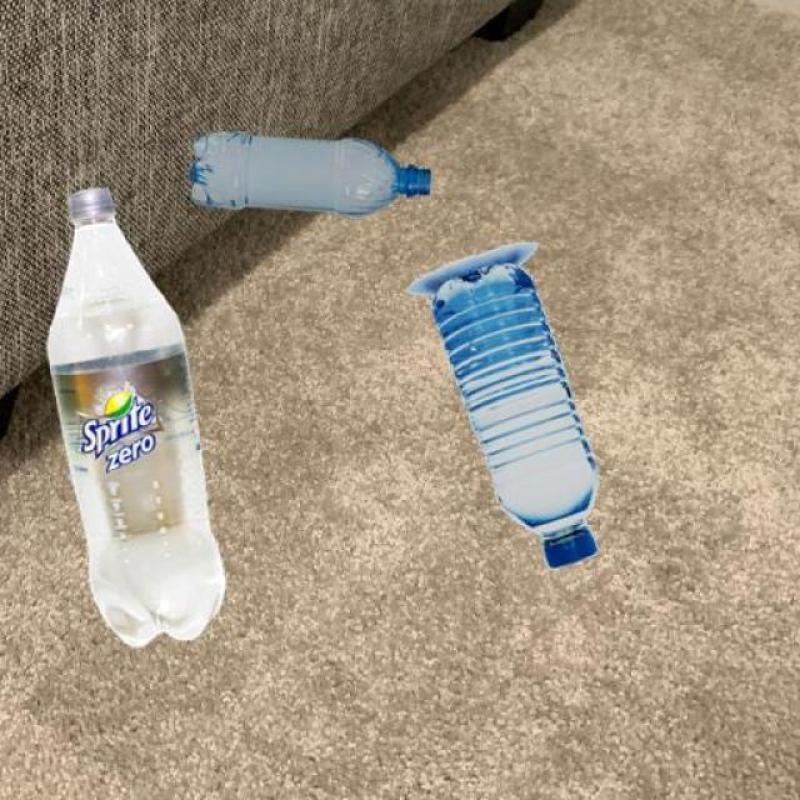botella: (0, 186, 226, 653), (429, 264, 599, 570), (191, 131, 434, 218)
